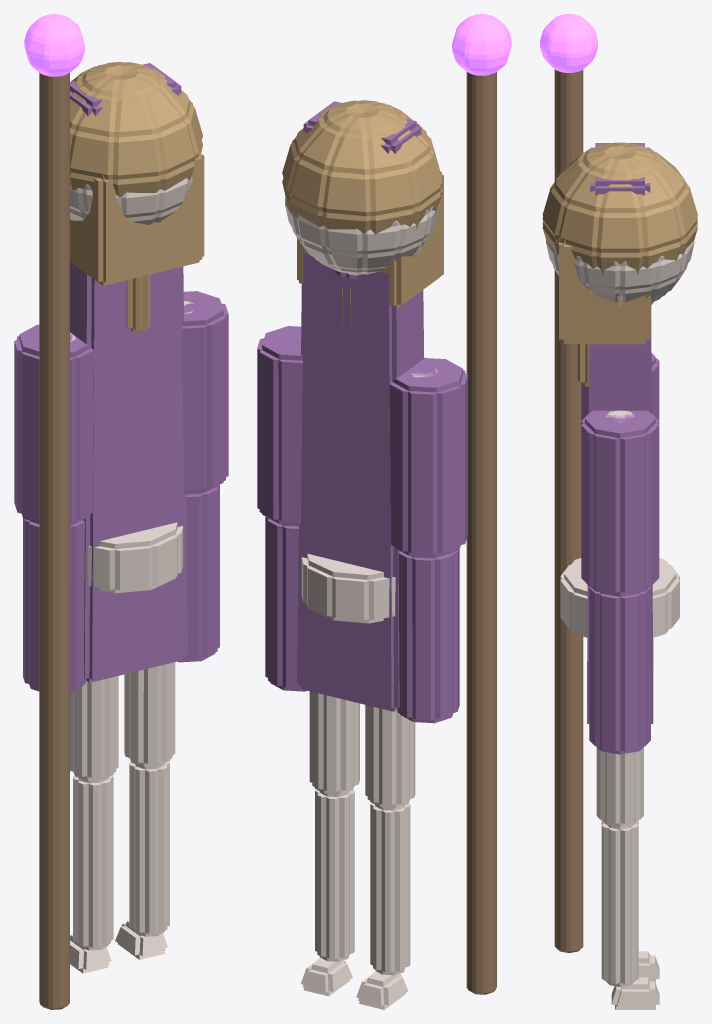
The picture shows the model from 3 angles, left to right: view 1: azimuth 30°, elevation 25°; view 2: azimuth 150°, elevation 25°; view 3: azimuth 270°, elevation 25°; orthographic projection. The views are drawn at different scales.
Parts seen in each view (by area): view 1: ElfRobe, ElfBody, WizardStaff, ElfHair, StaffGem; view 2: ElfRobe, ElfBody, WizardStaff, ElfHair, StaffGem; view 3: ElfRobe, ElfHair, WizardStaff, ElfBody, StaffGem.
Boxes of the visible parts, left/top/right/bottom form: ElfRobe: left=14, top=63, right=228, bottom=692; ElfBody: left=70, top=176, right=193, bottom=973; WizardStaff: left=39, top=73, right=69, bottom=1009; ElfHair: left=70, top=62, right=204, bottom=332; StaffGem: left=24, top=14, right=84, bottom=76; ElfRobe: left=257, top=101, right=467, bottom=723; ElfBody: left=285, top=194, right=440, bottom=1009; WizardStaff: left=466, top=72, right=496, bottom=994; ElfHair: left=282, top=100, right=443, bottom=330; StaffGem: left=452, top=14, right=511, bottom=75; ElfRobe: left=581, top=143, right=659, bottom=754; ElfHair: left=542, top=142, right=697, bottom=386; WizardStaff: left=554, top=69, right=583, bottom=952; ElfBody: left=546, top=240, right=694, bottom=1009; StaffGem: left=540, top=14, right=597, bottom=72.
Bounding box in the file's own units: 0.4729 × 2.01 × 0.3086.
